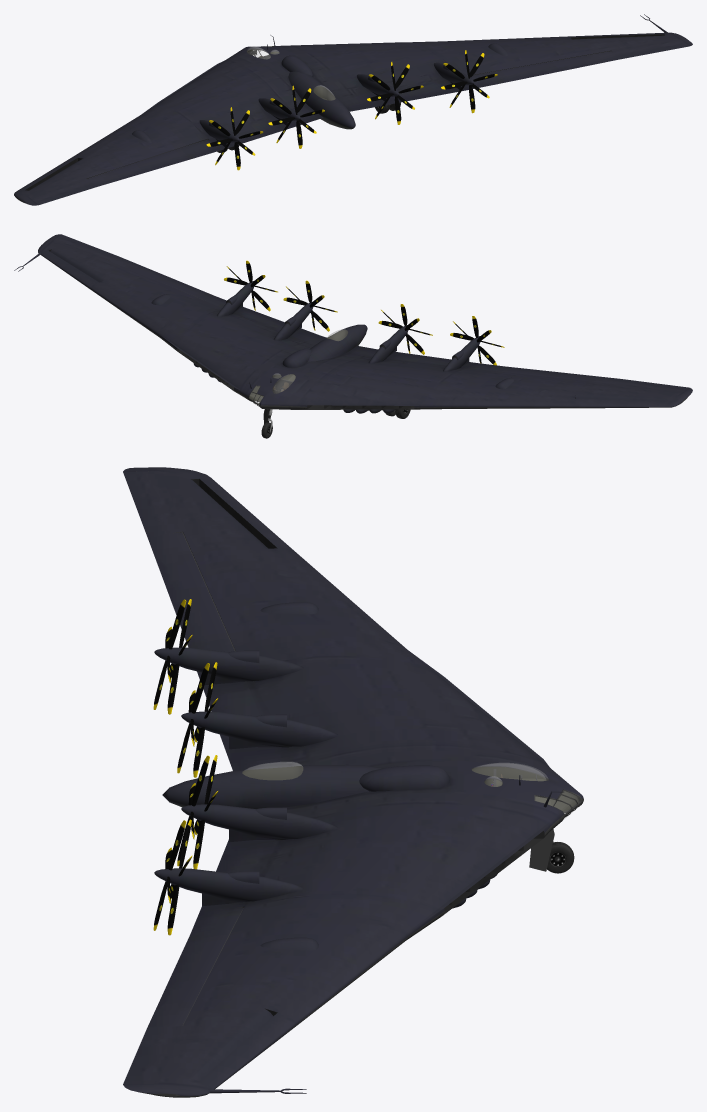
The picture shows the model from 3 angles, top to bottom: view 1: azimuth 30°, elevation 25°; view 2: azimuth 150°, elevation 25°; view 3: azimuth 270°, elevation 25°; orthographic projection. The views are drawn at different scales.
Parts seen in each view (by area): view 1: Object_41, Object_4, Object_44; view 2: Object_41, Object_4, Object_44, Object_28; view 3: Object_41, Object_4, Object_44, Object_28.
Boxes of the visible parts, x1,y1,x2,y2 form: Object_41: (14,14,692,205); Object_4: (206,50,497,170); Object_44: (247,46,335,100); Object_41: (14,234,692,438); Object_4: (224,260,504,365); Object_44: (249,329,347,405); Object_28: (249,330,347,404); Object_41: (123,467,583,1097); Object_4: (153,599,217,935); Object_44: (242,762,581,819); Object_28: (242,766,580,811).
Bounding box in the file's own units: 5240 × 637 × 1633.
33 materials, 31 textured.
